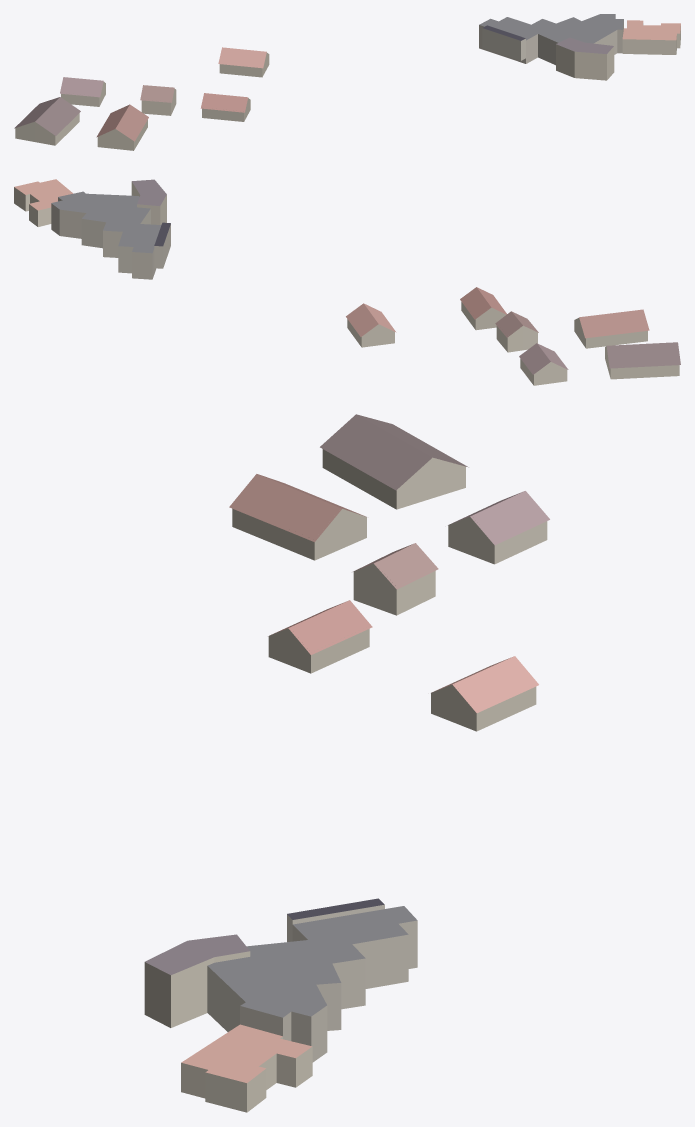
The picture shows the model from 3 angles, top to bottom: view 1: azimuth 30°, elevation 25°; view 2: azimuth 150°, elevation 25°; view 3: azimuth 270°, elevation 25°; orthographic projection. The views are drawn at different scales.
Parts seen in each view (by area): view 1: tuile; view 2: tuile; view 3: tuile.
Part boxes in pixels (x1,y1,x2,y2): tuile: [14, 14, 680, 150]; tuile: [14, 179, 680, 385]; tuile: [144, 414, 549, 1112].
Size of the model in its own units: 227 by 16.28 by 63.31.
